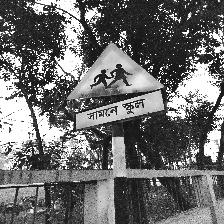School-in-front: (66, 42, 167, 133)
